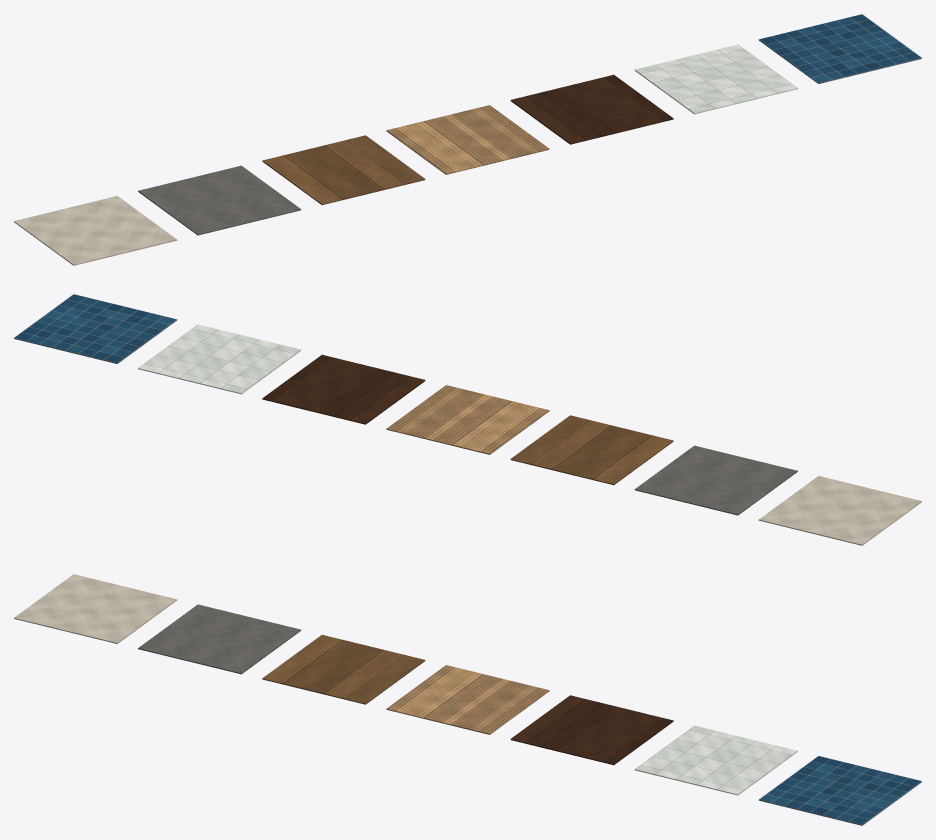
The model's file is surfaces.glb.
The picture shows the model from 3 angles, top to bottom: view 1: azimuth 30°, elevation 25°; view 2: azimuth 150°, elevation 25°; view 3: azimuth 330°, elevation 25°; orthographic projection.
Visible parts, largest first — view 1: Surf_Concrete, Surf_TileWhite, Surf_CeilingWood, Surf_Hinoki, Surf_WoodDark, Surf_Plaster, Surf_TileBlue; view 2: Surf_Concrete, Surf_TileWhite, Surf_CeilingWood, Surf_Hinoki, Surf_WoodDark, Surf_Plaster, Surf_TileBlue; view 3: Surf_Concrete, Surf_TileWhite, Surf_CeilingWood, Surf_Hinoki, Surf_WoodDark, Surf_Plaster, Surf_TileBlue.
Boxes of the visible parts, x1=… form: Surf_Concrete: x1=138, y1=165, x2=301, y2=235; Surf_TileWhite: x1=634, y1=44, x2=797, y2=114; Surf_CeilingWood: x1=262, y1=135, x2=425, y2=205; Surf_Hinoki: x1=386, y1=105, x2=549, y2=174; Surf_WoodDark: x1=510, y1=74, x2=673, y2=144; Surf_Plaster: x1=14, y1=196, x2=177, y2=265; Surf_TileBlue: x1=758, y1=14, x2=921, y2=83; Surf_Concrete: x1=634, y1=445, x2=797, y2=515; Surf_TileWhite: x1=138, y1=324, x2=301, y2=394; Surf_CeilingWood: x1=510, y1=415, x2=673, y2=485; Surf_Hinoki: x1=386, y1=385, x2=549, y2=454; Surf_WoodDark: x1=262, y1=354, x2=425, y2=424; Surf_Plaster: x1=758, y1=476, x2=921, y2=545; Surf_TileBlue: x1=14, y1=294, x2=177, y2=363; Surf_Concrete: x1=138, y1=604, x2=301, y2=674; Surf_TileWhite: x1=634, y1=725, x2=797, y2=795; Surf_CeilingWood: x1=262, y1=634, x2=425, y2=704; Surf_Hinoki: x1=386, y1=665, x2=549, y2=734; Surf_WoodDark: x1=510, y1=695, x2=673, y2=765; Surf_Plaster: x1=14, y1=574, x2=177, y2=643; Surf_TileBlue: x1=758, y1=756, x2=921, y2=825.
Bounding box in the file's own units: 8.2 × 0.01 × 1.
7 materials, 7 textured.
